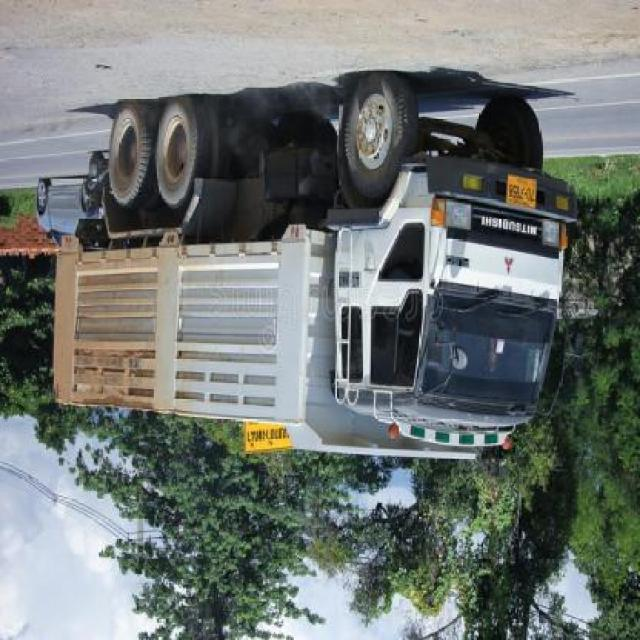truck: (58, 75, 582, 467)
